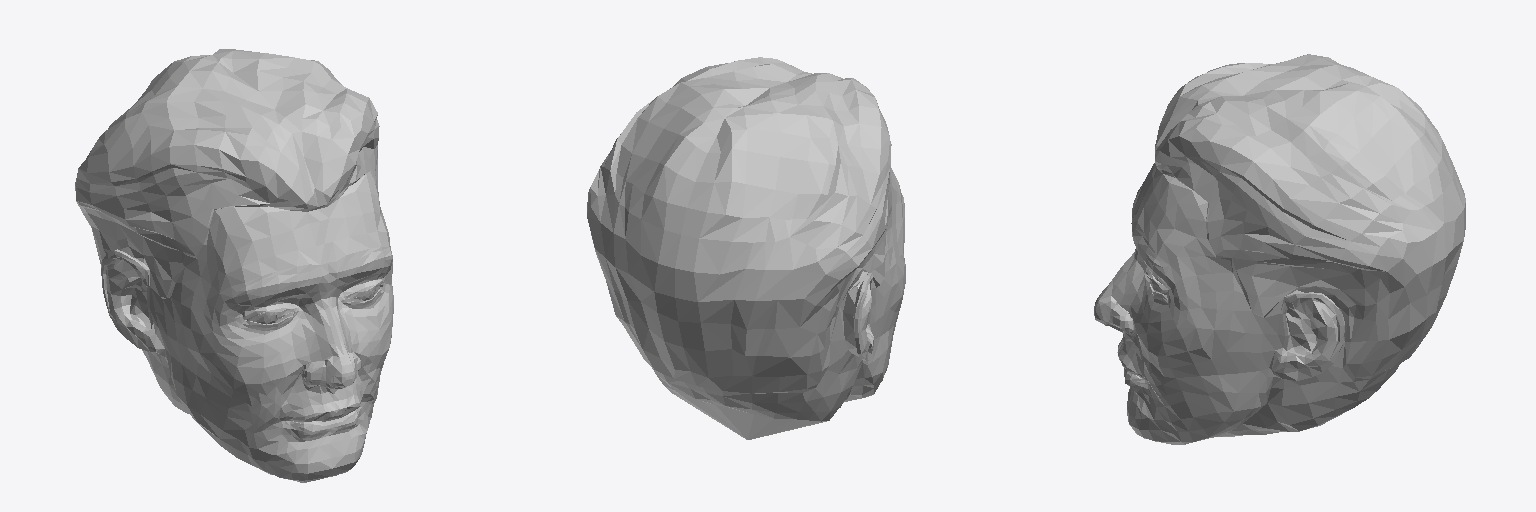
Rendered from Head.obj.
3 views of the same model, side by side, from view 1: azimuth 30°, elevation 25°; view 2: azimuth 150°, elevation 25°; view 3: azimuth 270°, elevation 25° (orthographic).
Size of the model in its own units: 0.2128 by 0.2656 by 0.2541.